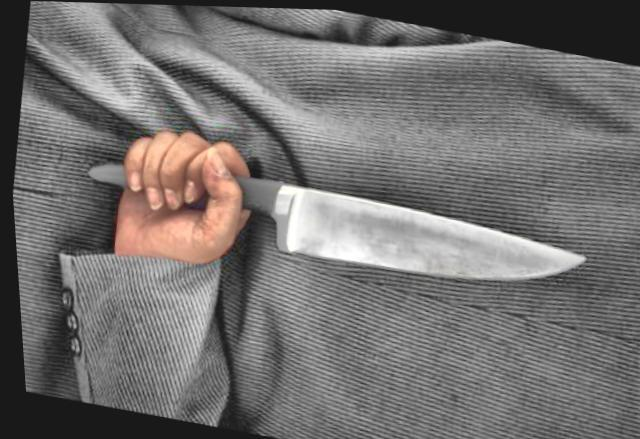knife: (108, 117, 601, 330)
